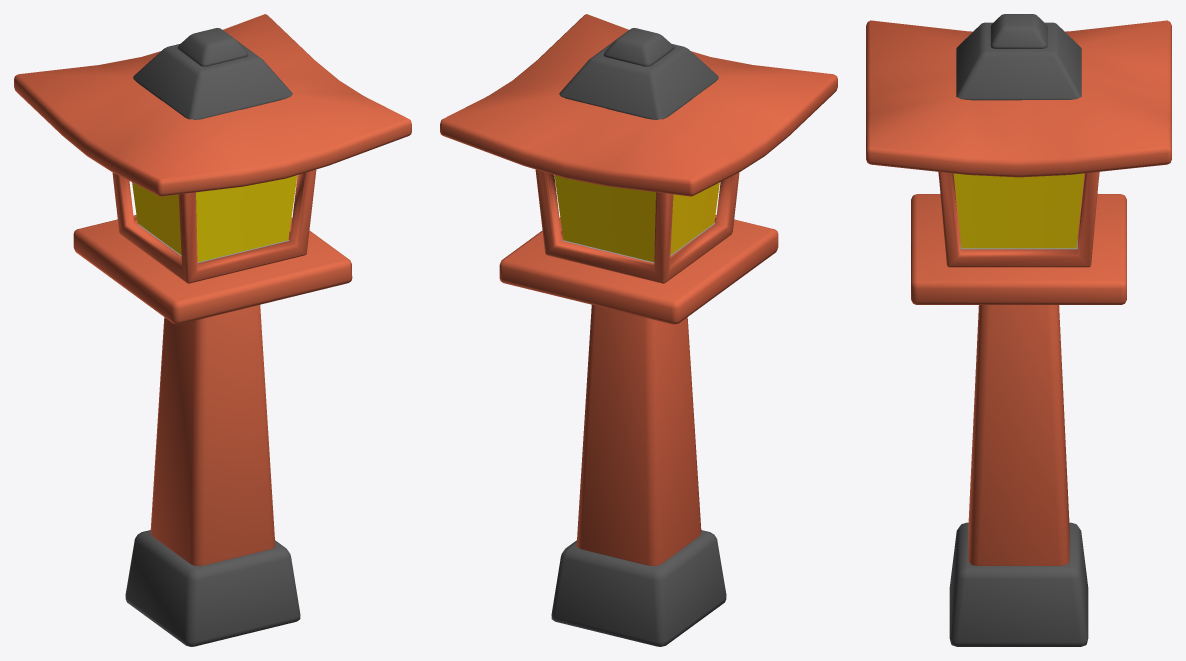
Rendered from lamparaPequeña.glb.
3 renders of one model, left to right at view 1: azimuth 30°, elevation 25°; view 2: azimuth 150°, elevation 25°; view 3: azimuth 270°, elevation 25°, orthographic. The views are drawn at different scales.
Parts seen in each view (by area): view 1: Cube; view 2: Cube; view 3: Cube.
Part boxes in pixels (x1=…): Cube: x1=14, y1=14, x2=411, y2=646; Cube: x1=440, y1=14, x2=837, y2=646; Cube: x1=866, y1=14, x2=1171, y2=646.
Size of the model in its own units: 1.3 by 2.82 by 1.3.
Materials: 1 (1 with a texture image).
